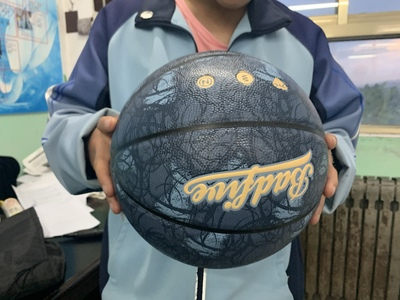ball: (108, 50, 329, 271)
